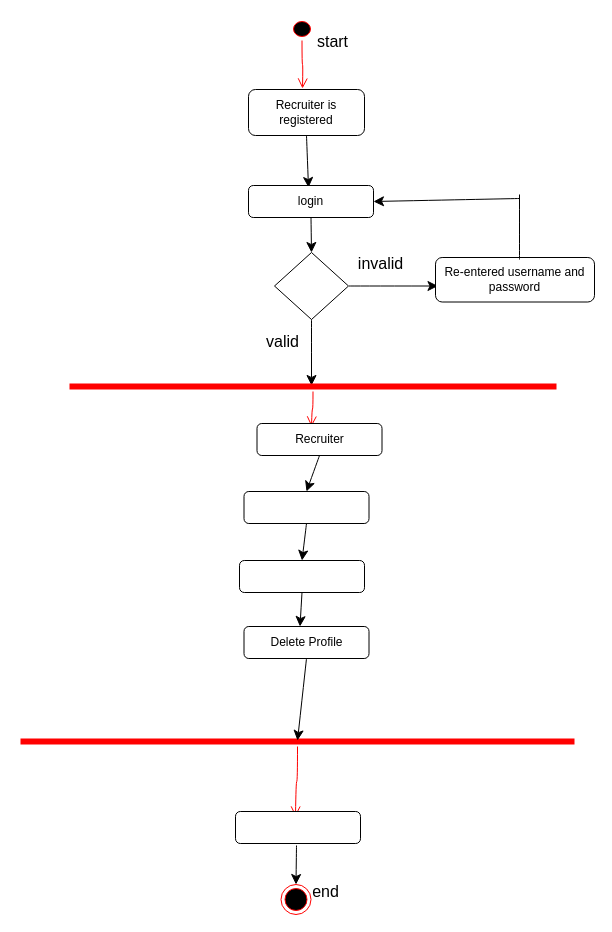
Image size: 612x932. Some labels were removed from this diagram. Here are the shapes that lost their labels. From the top down, the centre of each, then its label:
At pixel 306 507: "Create Profile".
At pixel 301 576: "Modify Profile".
At pixel 297 827: "logout".
